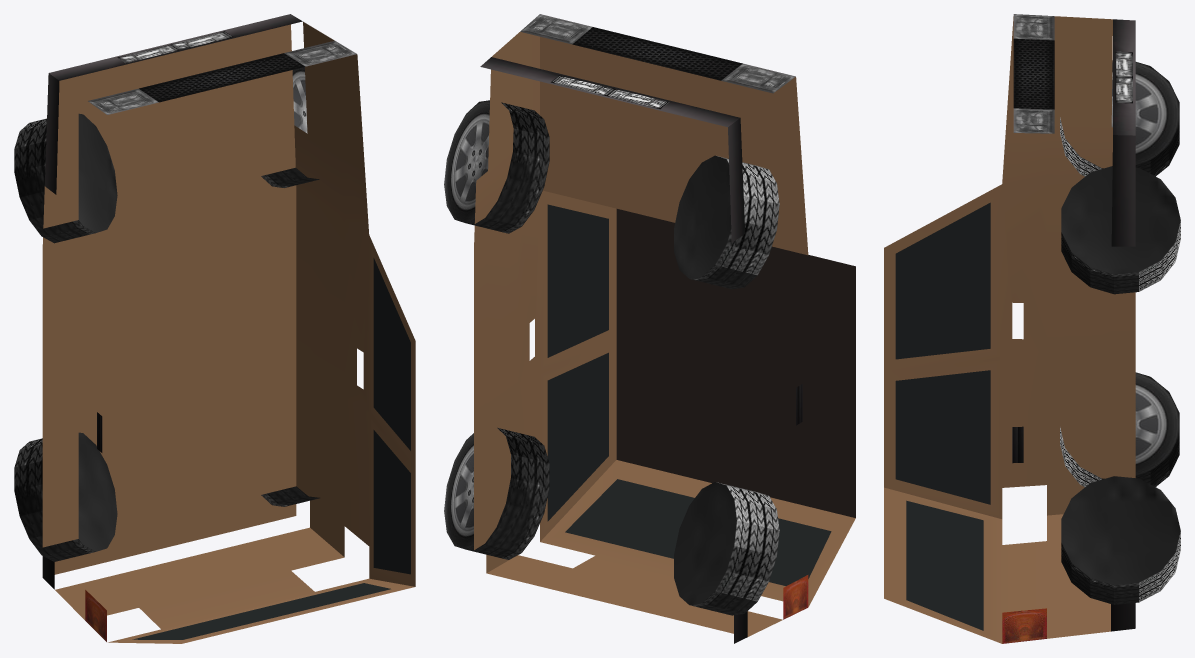
The model's file is Hachback.gltf.
The picture shows the model from 3 angles, left to right: view 1: azimuth 30°, elevation 25°; view 2: azimuth 150°, elevation 25°; view 3: azimuth 270°, elevation 25°; orthographic projection. The views are drawn at different scales.
Visible parts, largest first — view 1: Body2, WheelRL013erw, WheelRL014ter, WheelRL011dd, WheelRL012bf; view 2: Body2, WheelRL014ter, WheelRL013erw, WheelRL011dd, WheelRL012bf; view 3: Body2, WheelRL012bf, WheelRL011dd, WheelRL013erw, WheelRL014ter.
Boxes of the visible parts, x1=… form: Body2: x1=42, y1=14, x2=415, y2=643; WheelRL013erw: x1=14, y1=113, x2=117, y2=243; WheelRL014ter: x1=14, y1=432, x2=117, y2=561; WheelRL011dd: x1=261, y1=67, x2=319, y2=187; WheelRL012bf: x1=261, y1=486, x2=319, y2=506; Body2: x1=474, y1=14, x2=855, y2=643; WheelRL014ter: x1=674, y1=482, x2=779, y2=615; WheelRL013erw: x1=674, y1=155, x2=779, y2=289; WheelRL011dd: x1=444, y1=100, x2=549, y2=233; WheelRL012bf: x1=444, y1=427, x2=549, y2=559; Body2: x1=884, y1=14, x2=1135, y2=643; WheelRL012bf: x1=1061, y1=476, x2=1180, y2=604; WheelRL011dd: x1=1061, y1=166, x2=1180, y2=294; WheelRL013erw: x1=1060, y1=60, x2=1179, y2=176; WheelRL014ter: x1=1060, y1=372, x2=1179, y2=486.
Bounding box in the file's own units: 0.5056 × 0.948 × 0.5015.
Materials: 7 (4 with a texture image).
